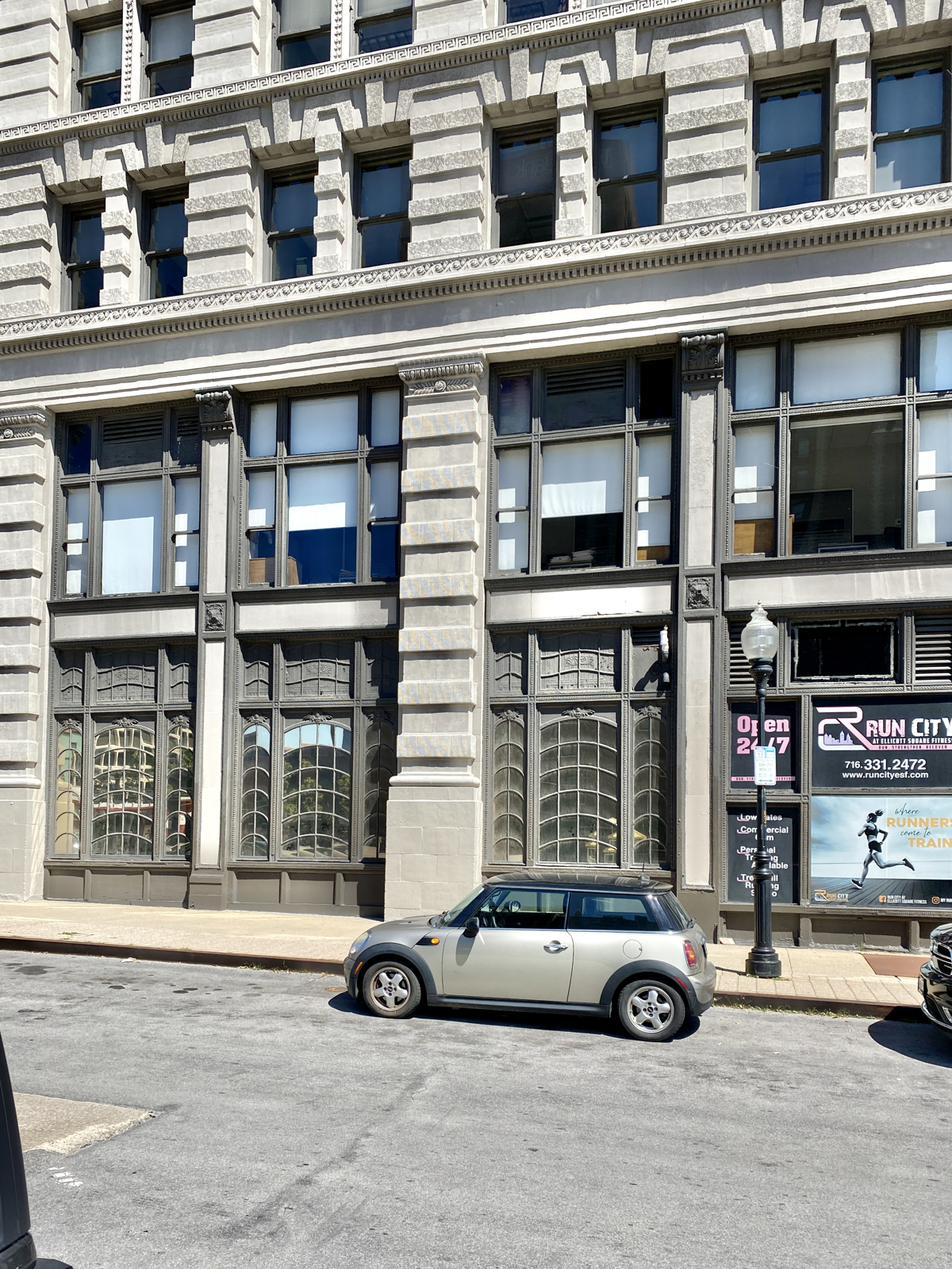fachada: (0, 4, 952, 968)
poste: (714, 607, 817, 983)
